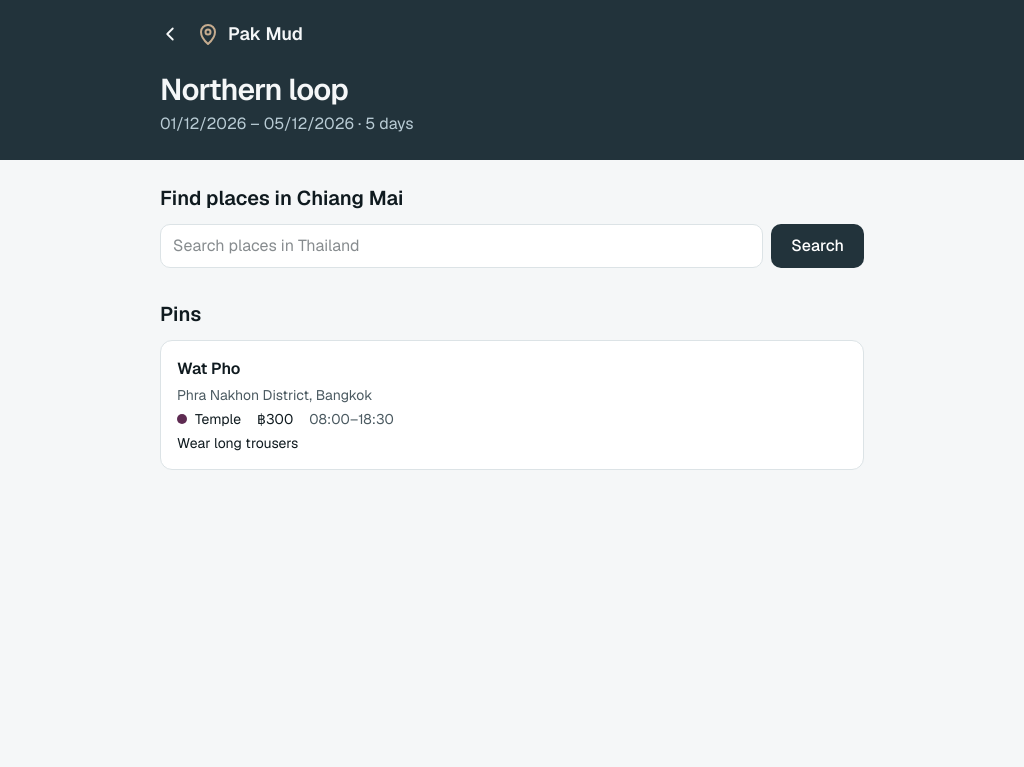
TripPinsScreen › adds a pinned place to the list and marks the result as Pinned
Check: the heading "Northern loop" is shown, box 160,70 -> 348,109
Type "wat arun" into the search field labelled "Search places in Thailand".
click(462, 246); type("wat arun")  # box 160,224 -> 763,268
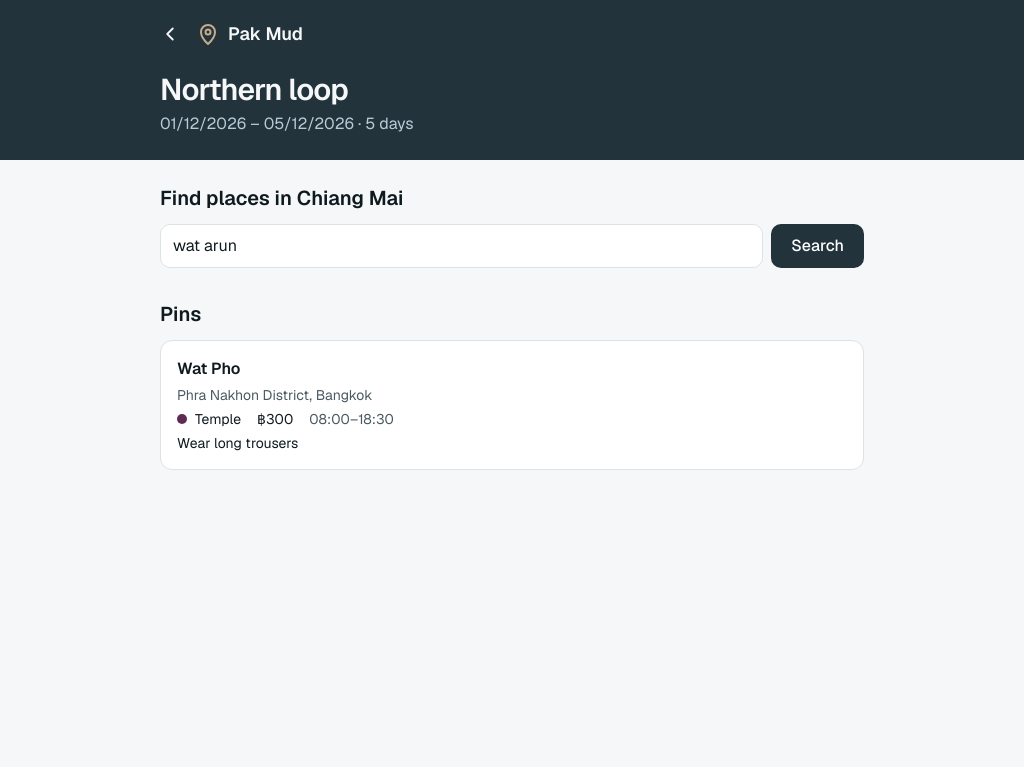
Click the button "Search".
click(818, 246)  # box 771,224 -> 864,268
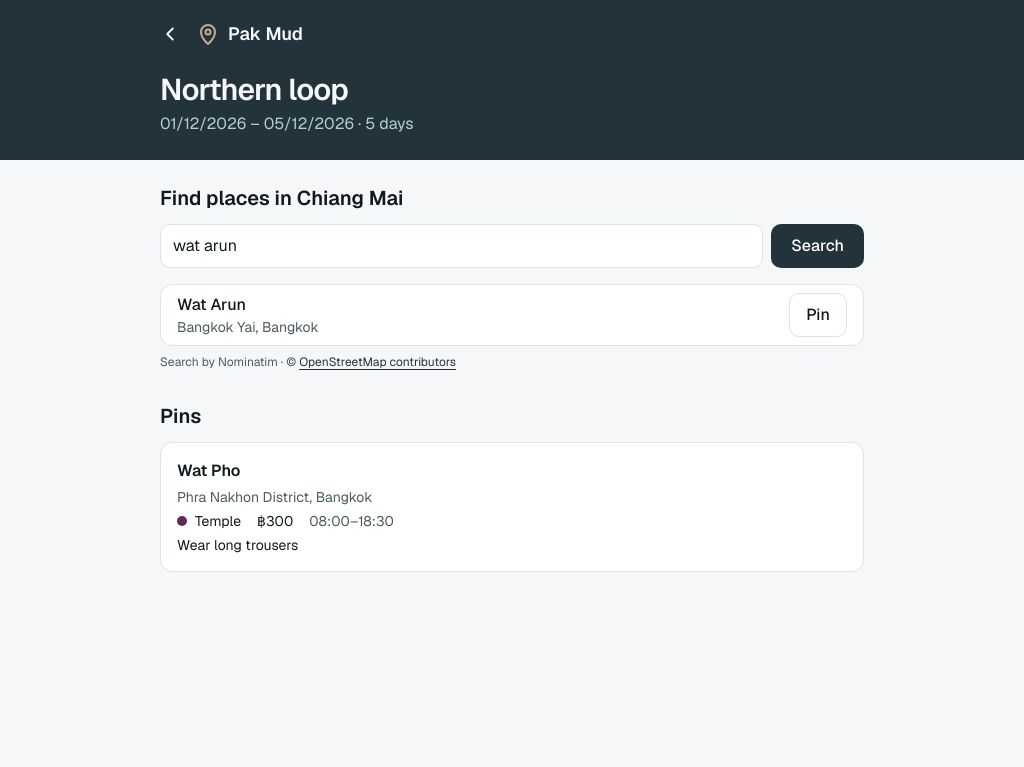
Click the button with aria-label "Pin Wat Arun".
click(818, 315)  # box 789,293 -> 847,337
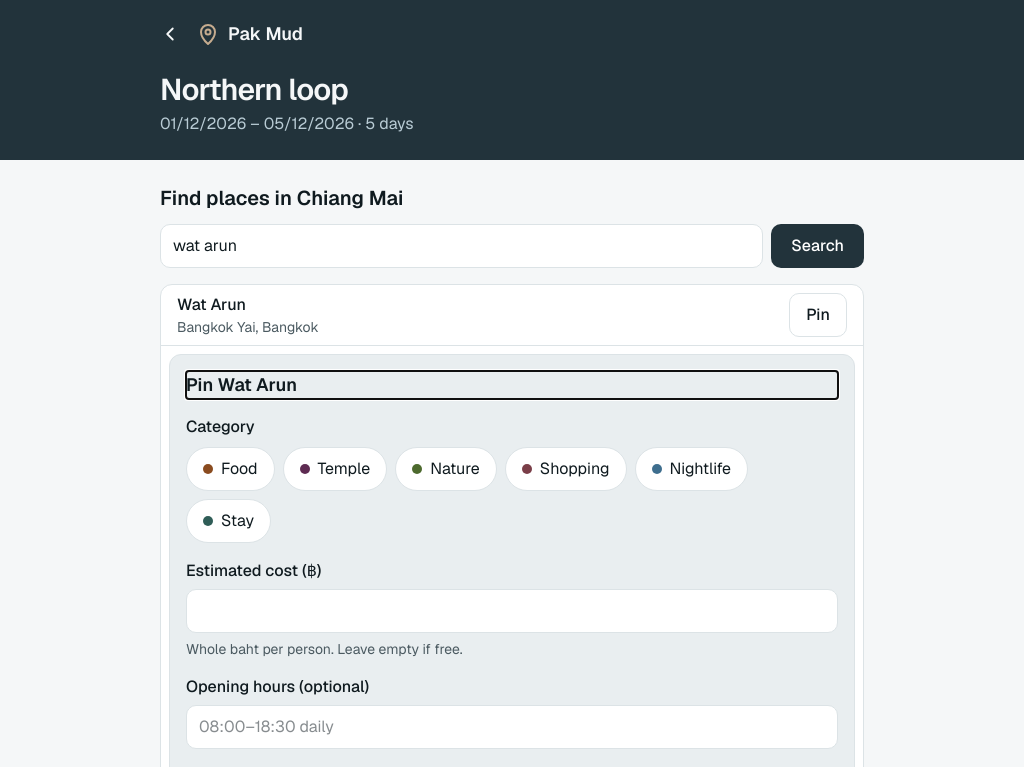
Click the radio button labelled "Temple".
click(335, 469)  # box 282,447 -> 387,491
(page scrolled)
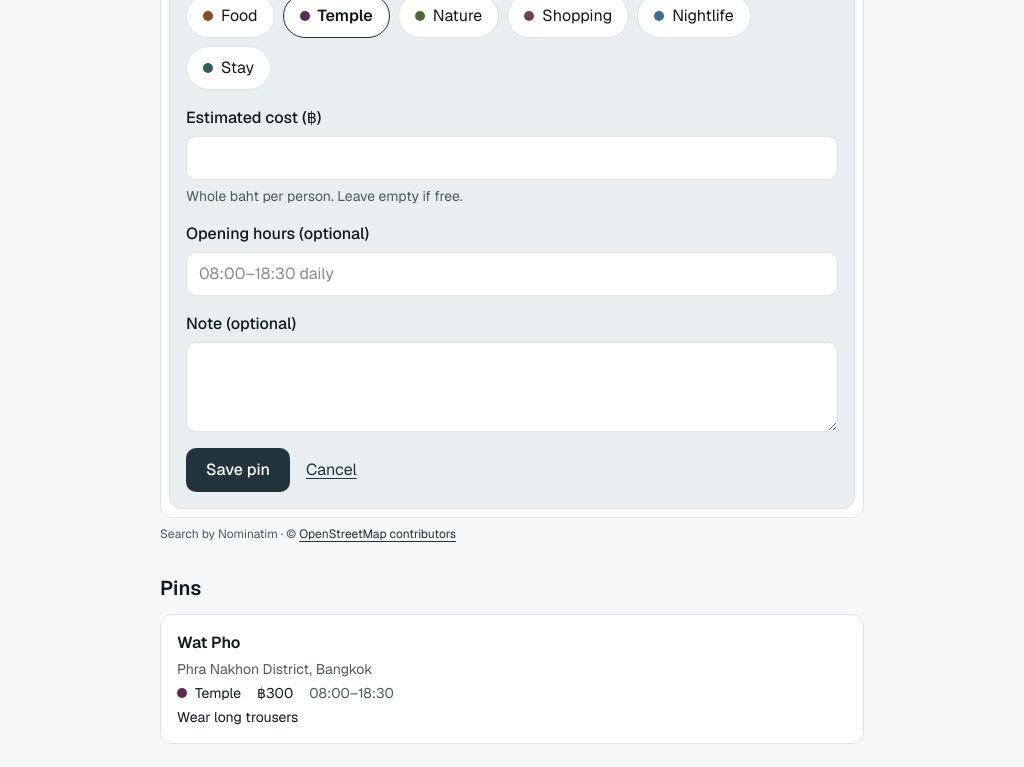
Click the button "Save pin".
click(238, 470)  # box 186,448 -> 290,492
(page scrolled)
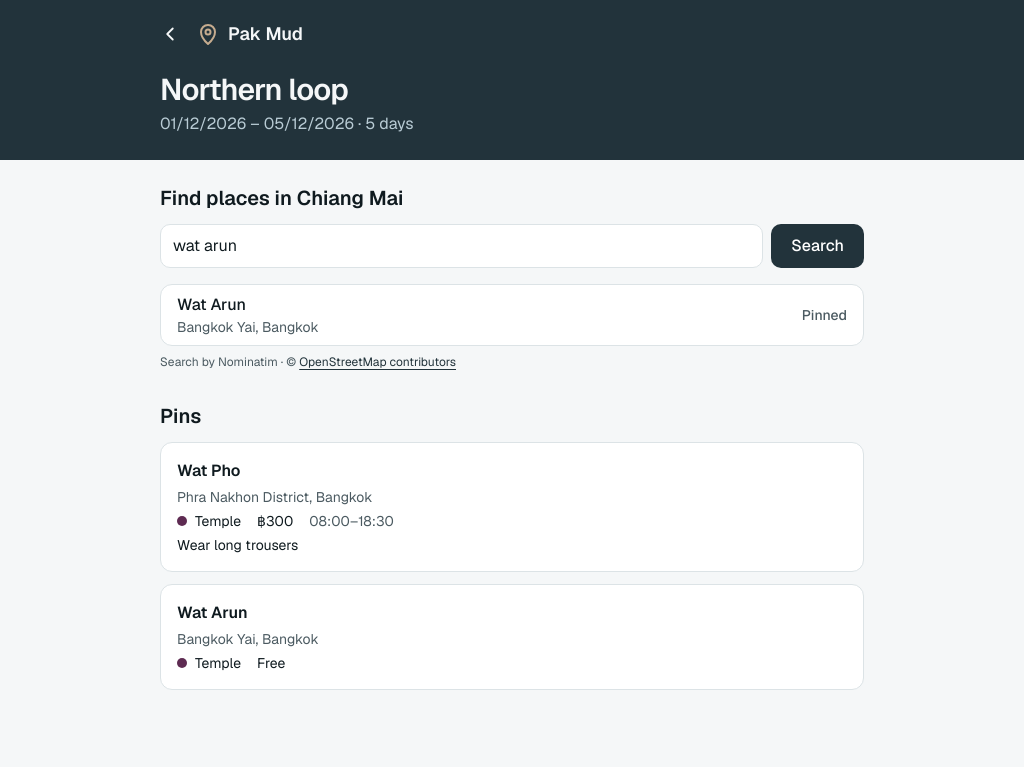
Check: the heading "Wat Arun" is shown, box 177,602 -> 248,623
Check: the text "Pinned" is shown, box 802,305 -> 847,325
